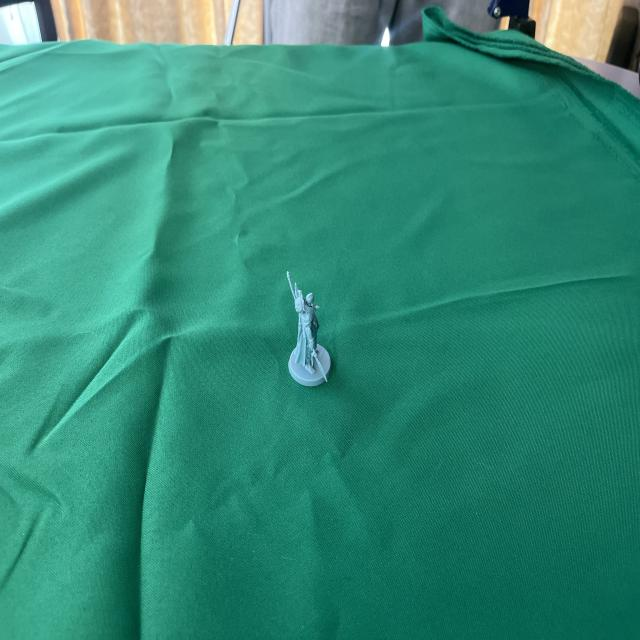isis_follower: (276, 264, 340, 389)
